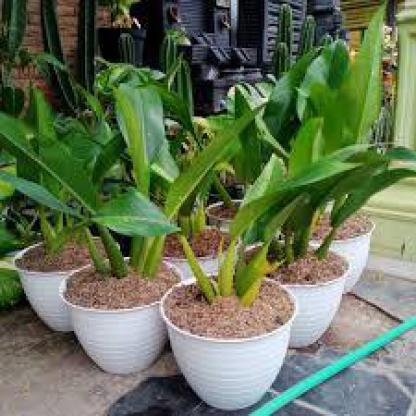Kenanga: (152, 51, 331, 198)
